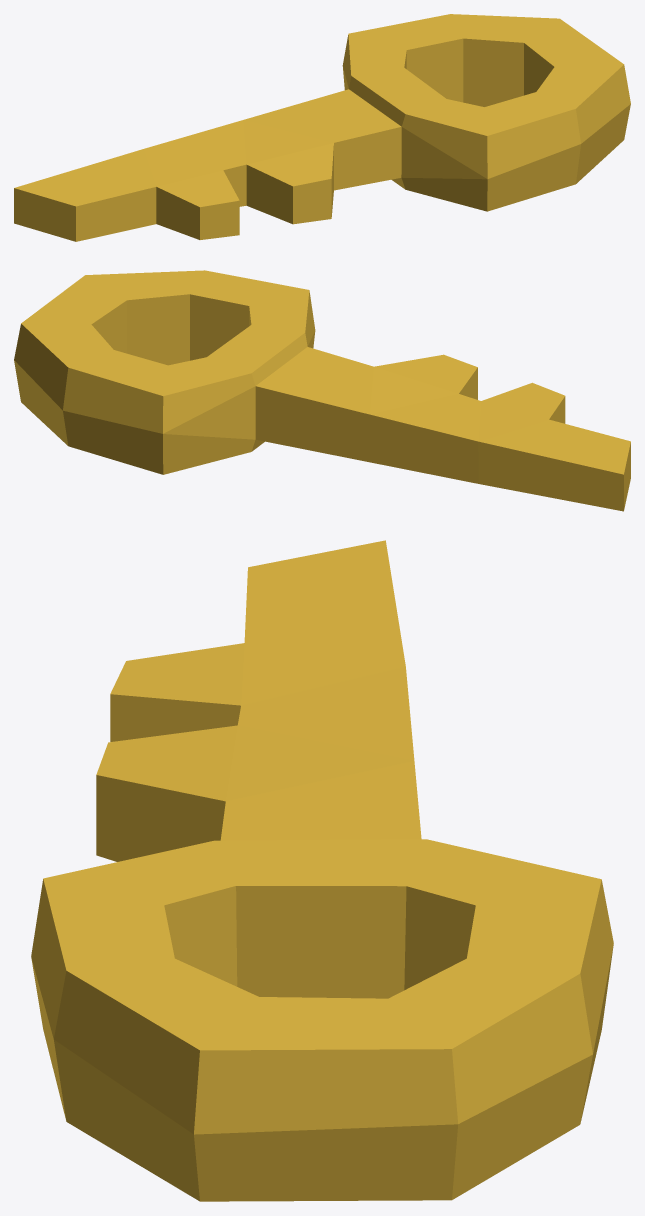
The model's file is Golden_Key.gltf.
3 views of the same model, one above another, from view 1: azimuth 30°, elevation 25°; view 2: azimuth 150°, elevation 25°; view 3: azimuth 270°, elevation 25° (orthographic). The views are drawn at different scales.
Parts seen in each view (by area): view 1: Golden_Key2; view 2: Golden_Key2; view 3: Golden_Key2.
Boxes of the visible parts, box(x1,y1,x2,y2) form: Golden_Key2: box(14, 14, 630, 241); Golden_Key2: box(14, 270, 630, 511); Golden_Key2: box(31, 540, 613, 1201).
Size of the model in its own units: 0.1244 by 0.0158 by 0.0552.
1 material, 1 textured.
